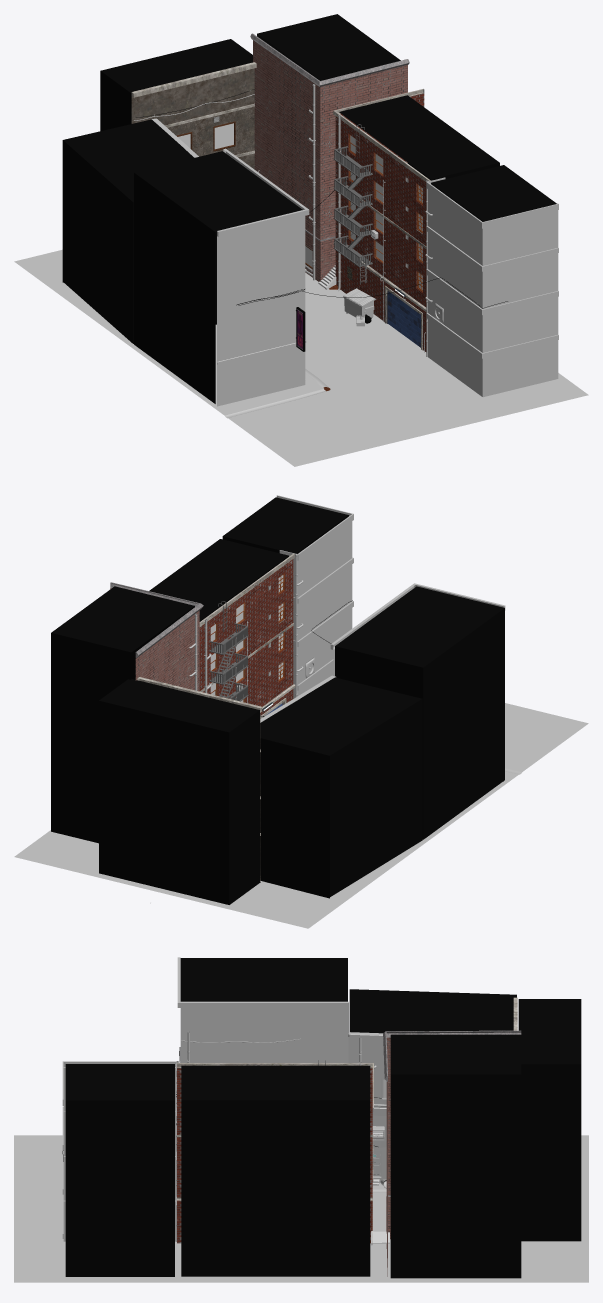
File: ally .fbx
The picture shows the model from 3 angles, top to bottom: view 1: azimuth 30°, elevation 25°; view 2: azimuth 150°, elevation 25°; view 3: azimuth 270°, elevation 25°; orthographic projection. The views are drawn at different scales.
Parts seen in each view (by area): view 1: Cube.002, b6, Cube, b1, Cube.016, b4, b5, b3, Cube.036, Cube.038, Cube.031, Cube.017 (+2 smaller); view 2: Cube.038, Cube.016, Cube, Cube.031, Cube.002, b5, b6, Cube.036, Cube.017, b4, b1, b3; view 3: Cube.036, Cube.031, Cube.017, Cube.002, Cube.038, b1, Cube, Cube.016, b2, b5, b4, b6.
Part boxes in pixels (x1=…): Cube.002: x1=14, y1=249, x2=588, y2=466; b6: x1=426, y1=177, x2=558, y2=397; Cube: x1=134, y1=151, x2=302, y2=403; b1: x1=217, y1=148, x2=309, y2=406; Cube.016: x1=62, y1=119, x2=194, y2=343; b4: x1=250, y1=33, x2=409, y2=281; b5: x1=333, y1=88, x2=430, y2=351; b3: x1=131, y1=62, x2=256, y2=169; Cube.036: x1=339, y1=95, x2=499, y2=180; Cube.038: x1=100, y1=39, x2=252, y2=131; Cube.031: x1=257, y1=14, x2=400, y2=80; Cube.017: x1=431, y1=165, x2=556, y2=221; Cube.038: x1=99, y1=679, x2=259, y2=904; Cube.016: x1=260, y1=677, x2=422, y2=898; Cube: x1=335, y1=586, x2=504, y2=839; Cube.031: x1=51, y1=586, x2=194, y2=843; Cube.002: x1=14, y1=703, x2=588, y2=928; b5: x1=199, y1=553, x2=295, y2=718; b6: x1=276, y1=495, x2=353, y2=698; Cube.036: x1=149, y1=539, x2=288, y2=621; Cube.017: x1=222, y1=497, x2=348, y2=553; b4: x1=110, y1=582, x2=203, y2=691; b1: x1=330, y1=583, x2=505, y2=781; b3: x1=137, y1=677, x2=262, y2=882; Cube.036: x1=181, y1=1065, x2=370, y2=1276; Cube.031: x1=390, y1=1034, x2=521, y2=1278; Cube.017: x1=65, y1=1064, x2=174, y2=1276; Cube.002: x1=14, y1=1135, x2=588, y2=1282; Cube.038: x1=518, y1=999, x2=581, y2=1241; b1: x1=177, y1=957, x2=348, y2=1062; Cube: x1=180, y1=958, x2=347, y2=1001; Cube.016: x1=349, y1=989, x2=516, y2=1033; b2: x1=348, y1=1032, x2=386, y2=1182; b5: x1=177, y1=1063, x2=373, y2=1243; b4: x1=383, y1=1030, x2=521, y2=1276; b6: x1=62, y1=1061, x2=176, y2=1241.
Size of the model in its own units: 690 by 480 by 1099.
